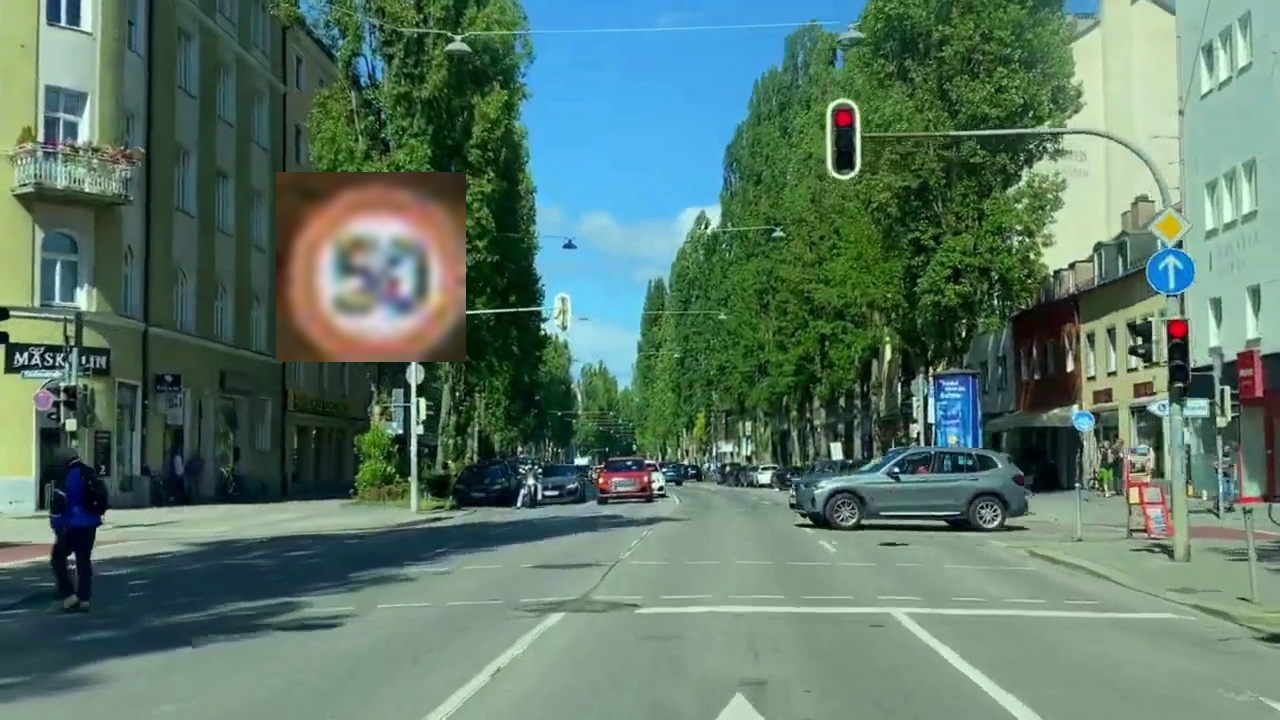Speed 50: (276, 172, 466, 362)
